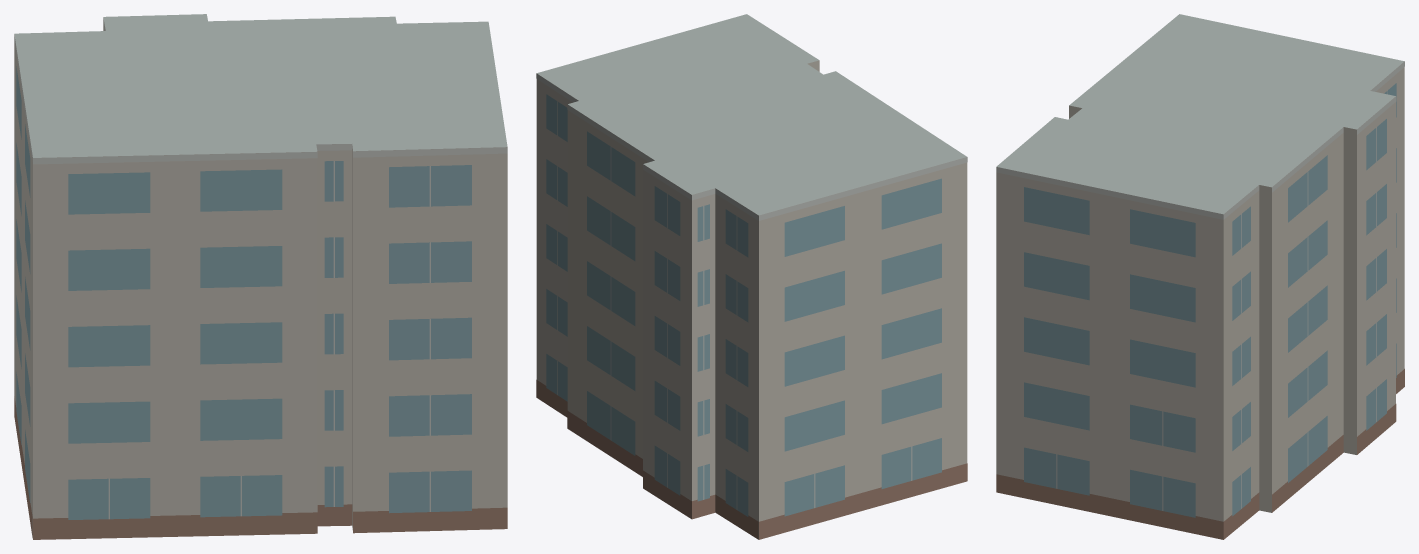
File: survey-upis-32842951.glb
The picture shows the model from 3 angles, left to right: view 1: azimuth 30°, elevation 25°; view 2: azimuth 150°, elevation 25°; view 3: azimuth 270°, elevation 25°; orthographic projection. The views are drawn at different scales.
Visible parts, largest first — view 1: survey-upis-32842951.tmp; view 2: survey-upis-32842951.tmp; view 3: survey-upis-32842951.tmp.
Boxes of the visible parts, box(x1,y1,x2,y2) form: survey-upis-32842951.tmp: box(14, 14, 507, 539); survey-upis-32842951.tmp: box(536, 14, 967, 539); survey-upis-32842951.tmp: box(996, 14, 1404, 539).
Bounding box in the file's own units: 18.94 × 14.35 × 16.33.
